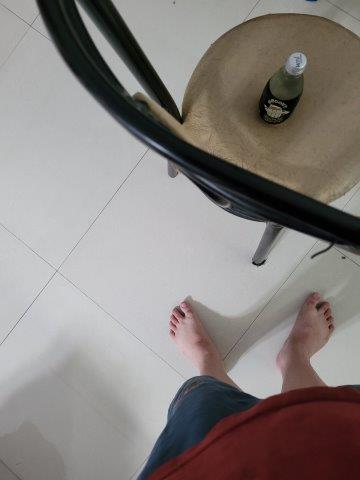botolkaca: (257, 53, 307, 125)
